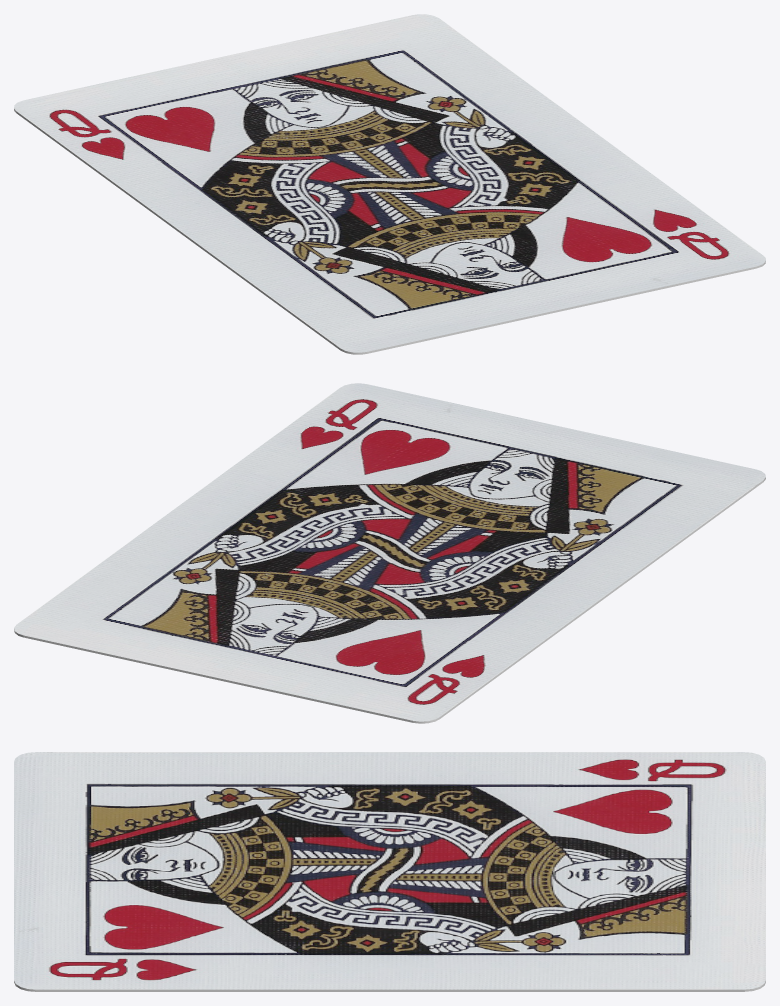
The model's file is heartsQ.fbx.
3 renders of one model, top to bottom at view 1: azimuth 30°, elevation 25°; view 2: azimuth 150°, elevation 25°; view 3: azimuth 270°, elevation 25°, orthographic. The views are drawn at different scales.
Visible parts, largest first — view 1: Hearts_Q_5; view 2: Hearts_Q_5; view 3: Hearts_Q_5.
Boxes of the visible parts, x1,y1,x2,y2 form: Hearts_Q_5: (14,14,765,354); Hearts_Q_5: (14,383,765,723); Hearts_Q_5: (14,752,765,991).
Size of the model in its own units: 6.26 by 0.1776 by 8.8.
